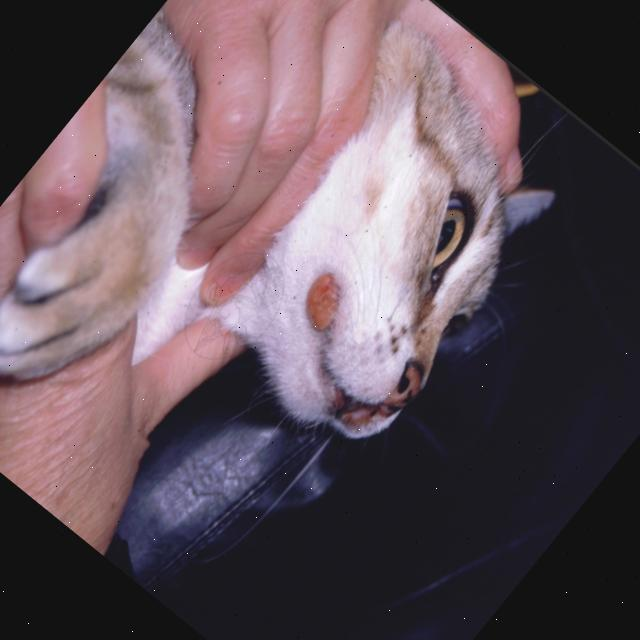cat-ulcer: (295, 270, 354, 332)
